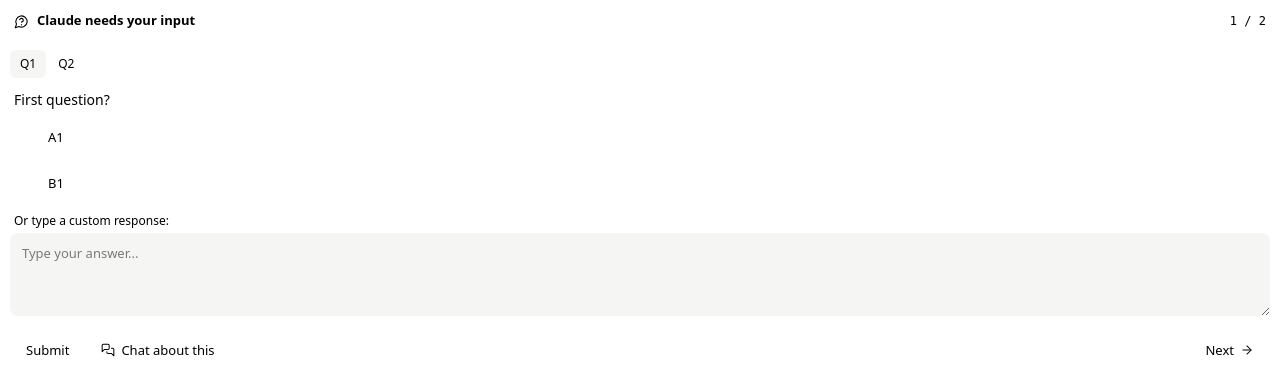
it: AskUserQuestion › moving to the next question › shows the next question when clicked
Type "custom-q1" into the text box with placeholder "Type your answer..." at x=640, y=275, box [10, 233, 1270, 316]
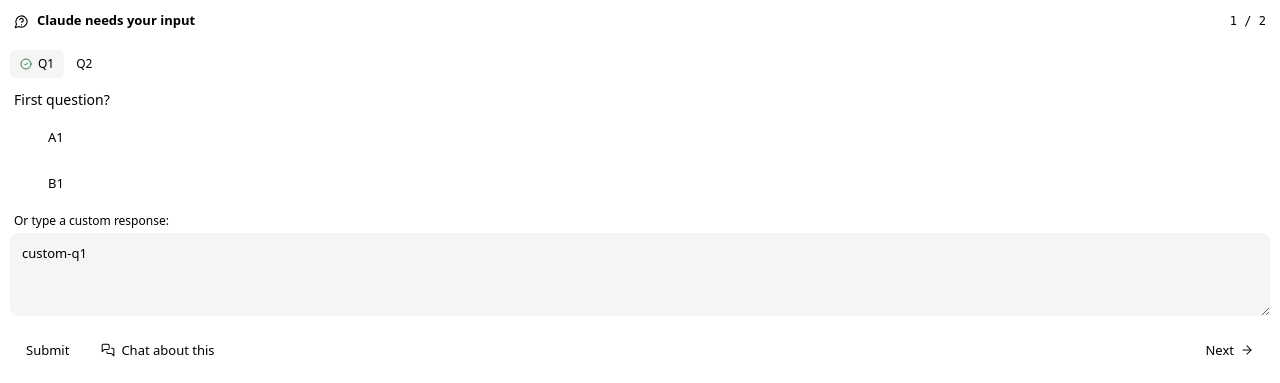
Click the button "Next" at x=1230, y=350, box [1194, 334, 1266, 366]
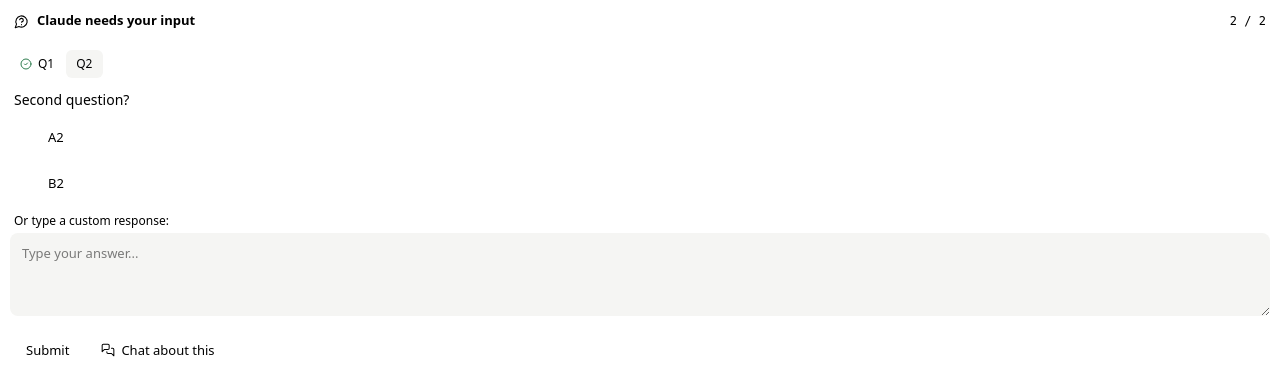
Now the text "Second question?" is shown, box [14, 90, 129, 109]
Now the text "First question?" is gone
